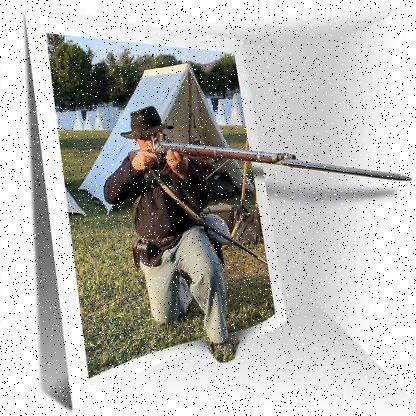rifle: (143, 122, 299, 196)
